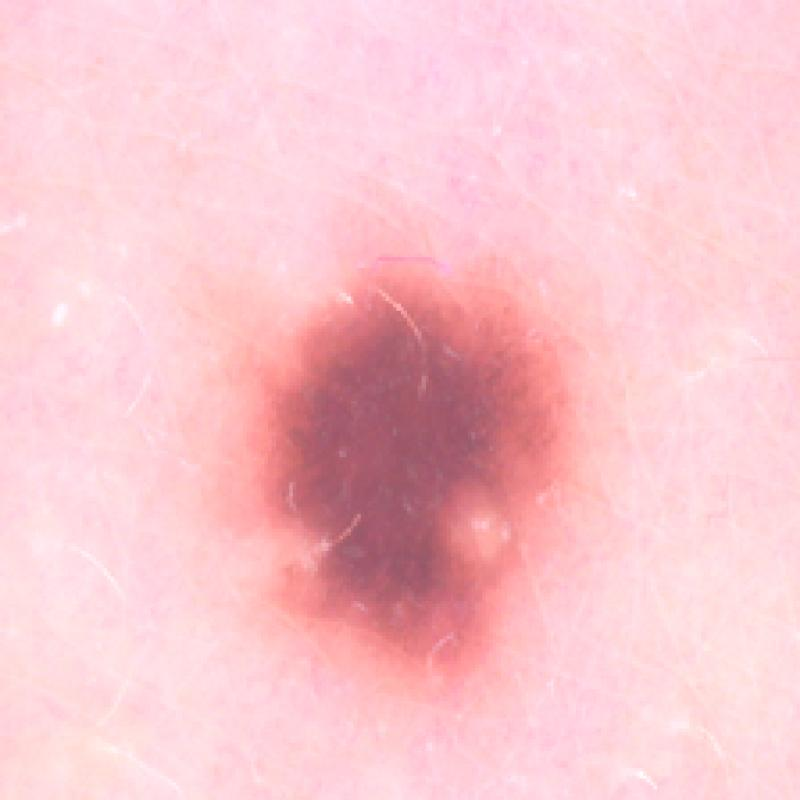benign: (230, 224, 580, 690)
